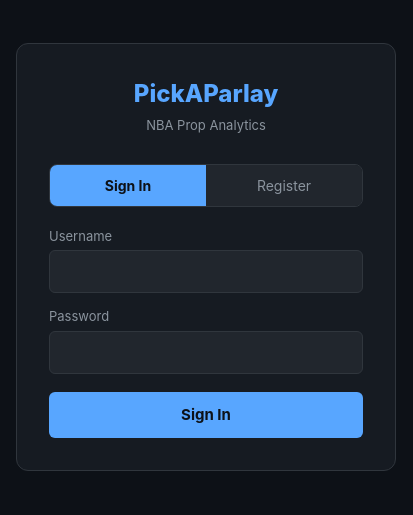
Test: LoginPage › shows the API's error detail
The image size is (413, 515).
In the field: (206, 272) [49,250,363,293], type "mike"
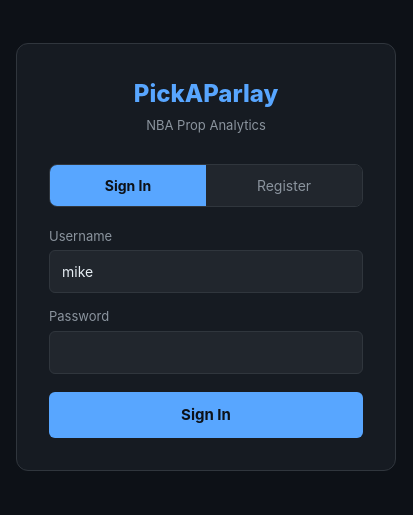
In the password field: (206, 352) [49,330,363,374], type "bad"
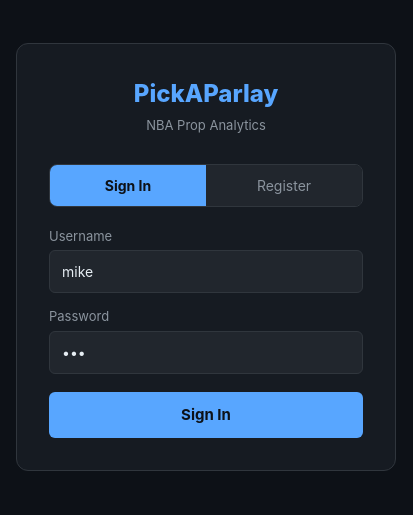
Click the submit button: (206, 415) [49,392,363,438]
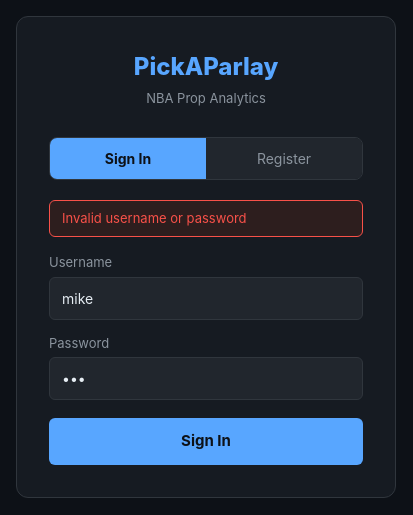
expect the text "Invalid username or password" is shown: met, box [49,200,363,237]
